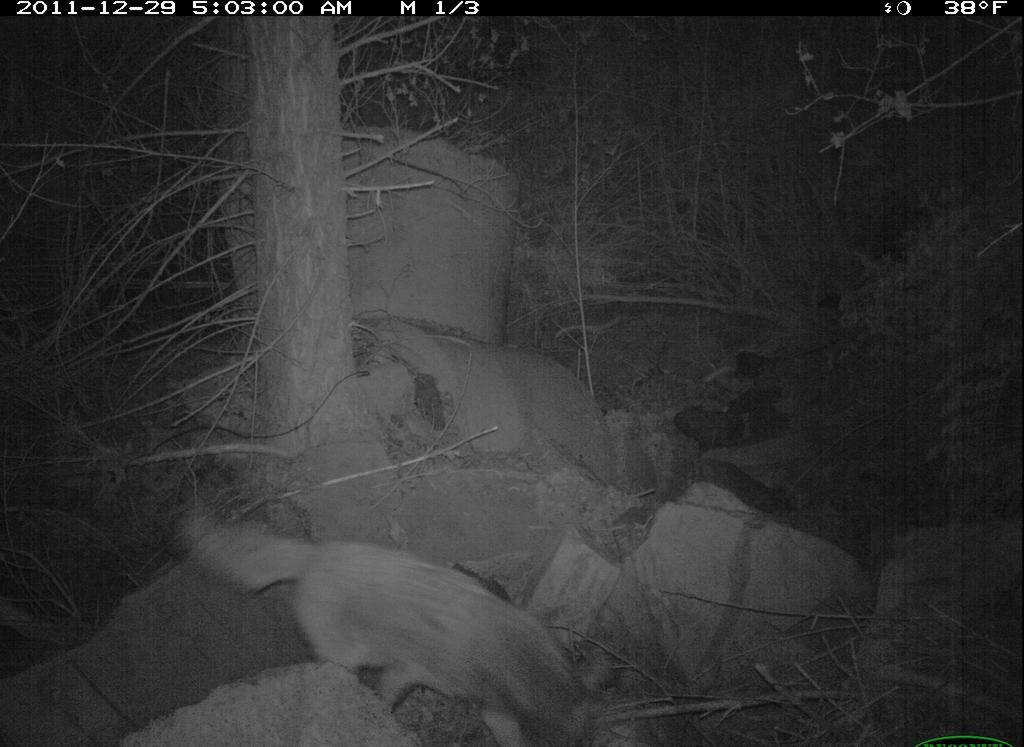coyote: (177, 506, 610, 744)
